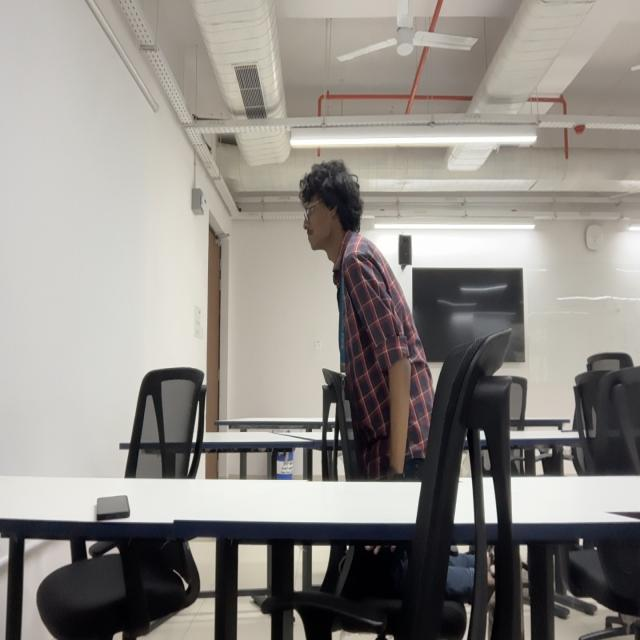darshan: (297, 157, 363, 250)
